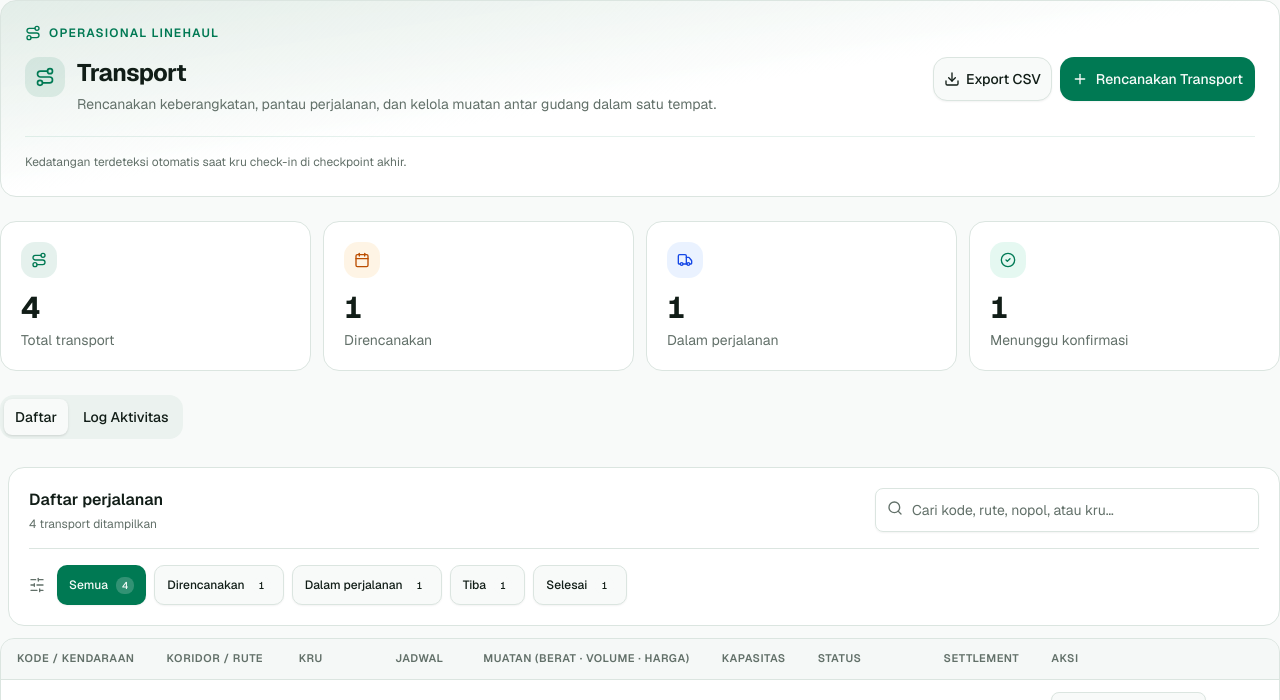
Test: responsive transports with the real DataTable › searches crew case-insensitively and trims surrounding whitespace:   bUdI SaNtOsO
Type "  bUdI SaNtOsO  " into the field named "Cari transport" at (1067, 510), box [875,488,1259,532]
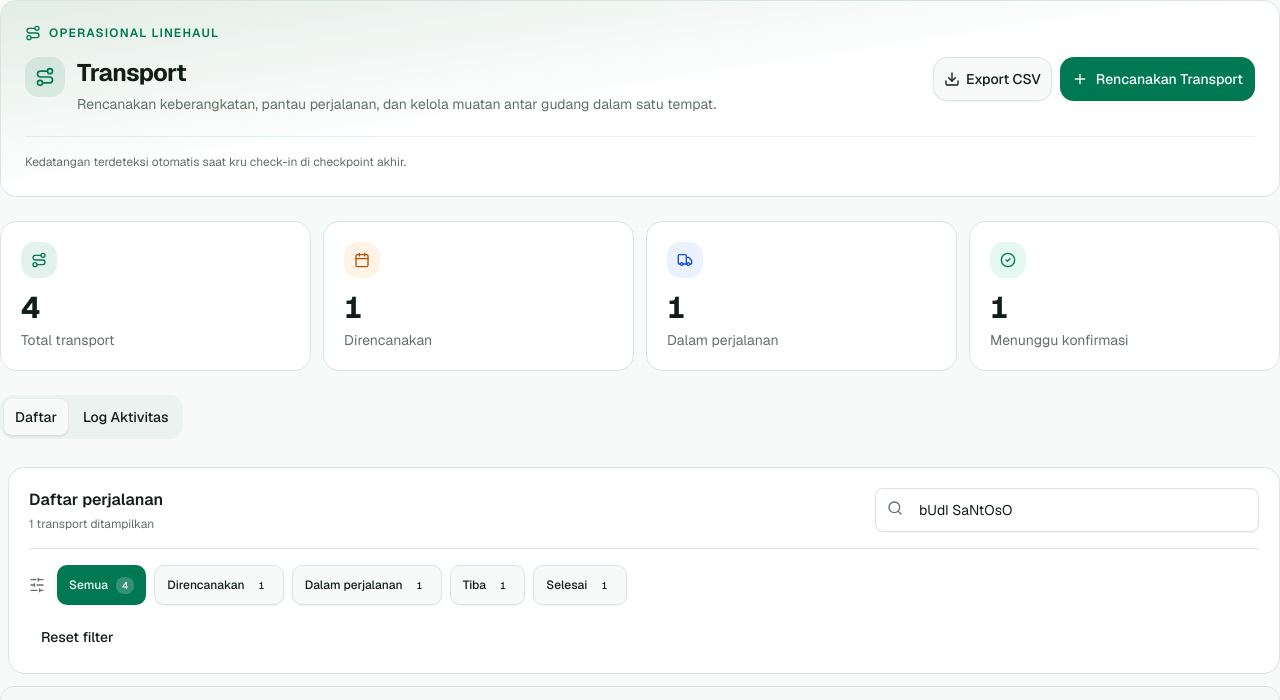
Check: the button "Semua 4" is shown, box [57,565,146,605]
Check: the message reads "1 transport ditampilkan", box [29,516,154,532]
